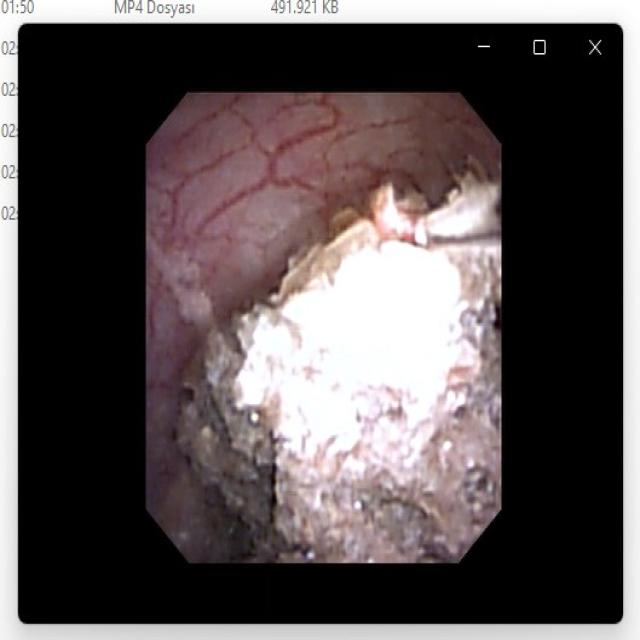stone: (180, 159, 494, 556)
